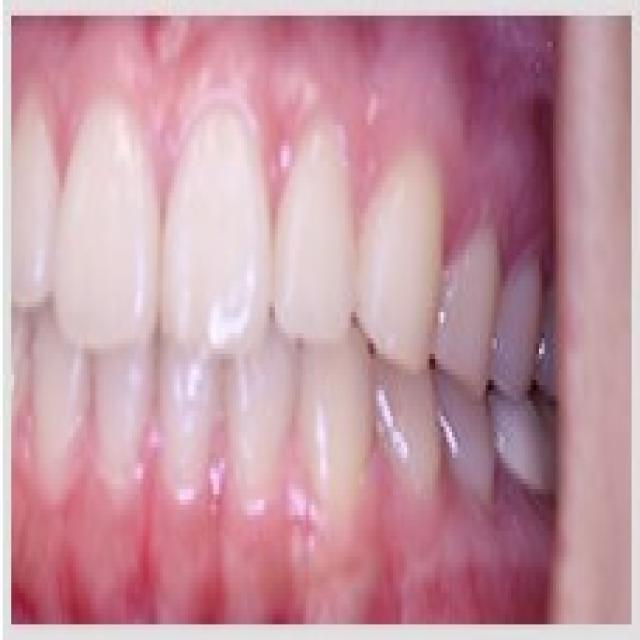tooth: (168, 104, 272, 380), (56, 114, 163, 359), (253, 109, 362, 349), (362, 110, 455, 370), (50, 359, 148, 494), (286, 354, 376, 494), (373, 374, 449, 526), (222, 349, 286, 489), (160, 349, 219, 494), (446, 224, 492, 364)
